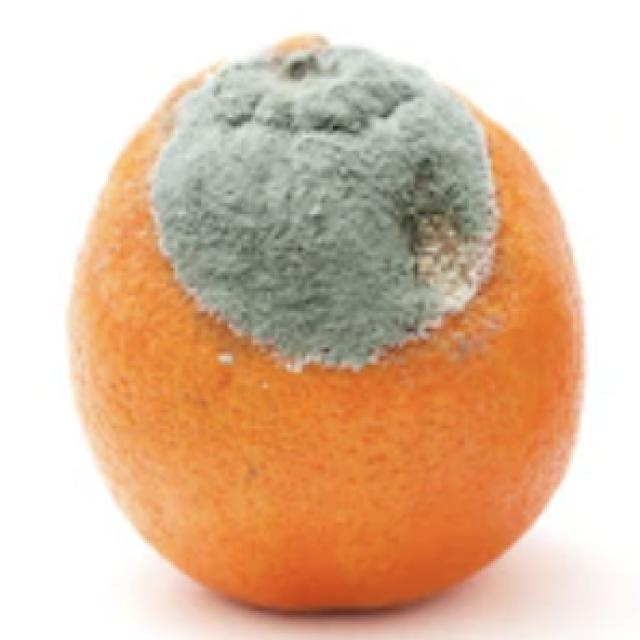rotten-orange: (67, 37, 579, 614)
